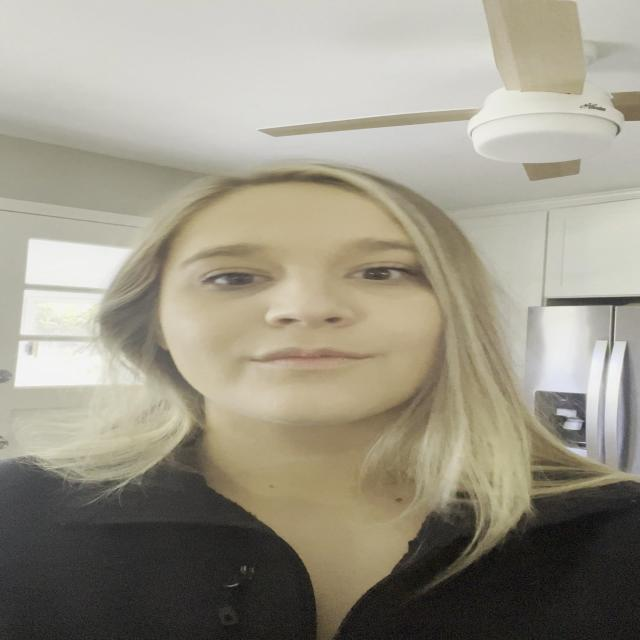no-helmet: (135, 177, 496, 465)
